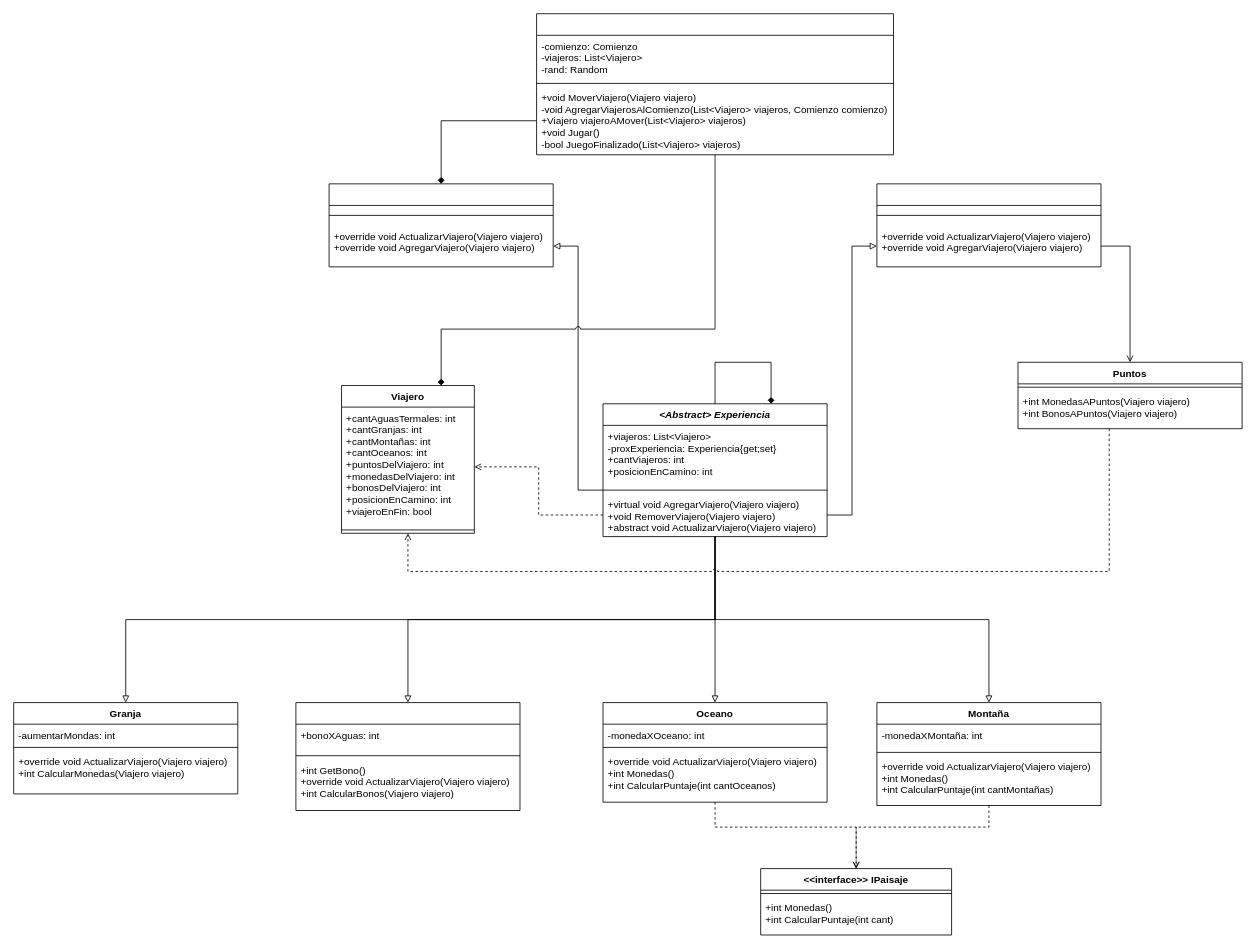
Some shapes in this 1256 by 949 pixel diagram are drawn without their labels. The box of each missing label's shape, as (x1, y1, x2, y2) in pixels:
AguasTermales: (295, 702, 520, 810)
Comienzo: (328, 183, 553, 267)
Fin: (876, 183, 1101, 267)
Tablero: (536, 13, 893, 155)
